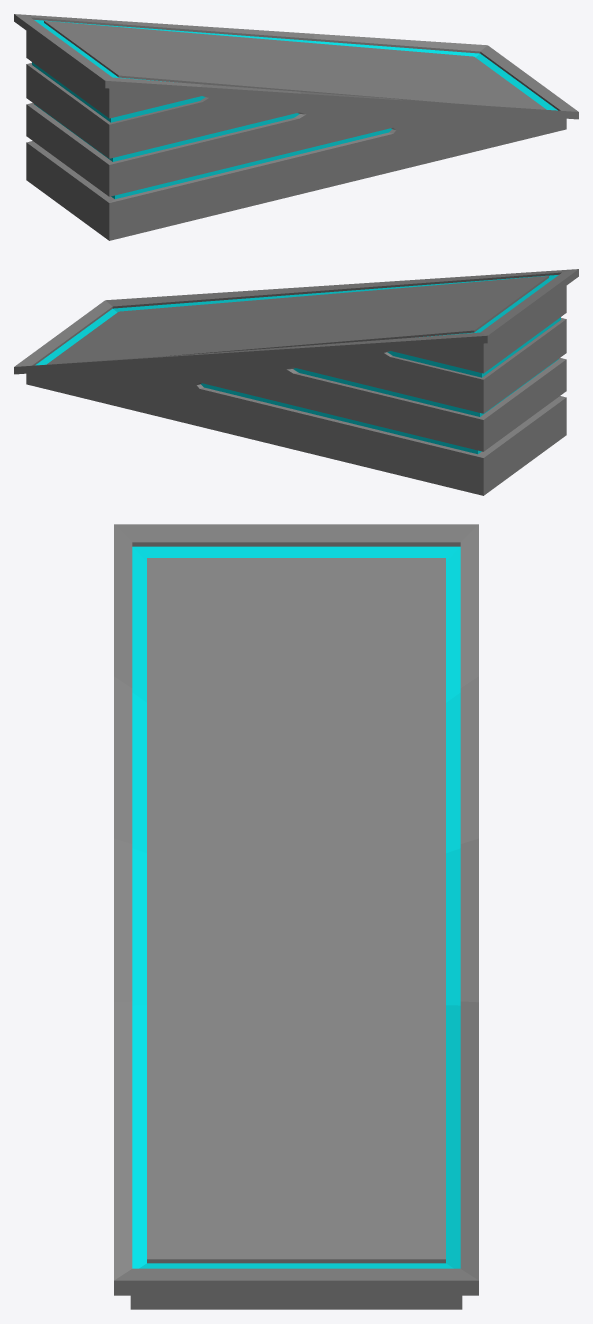
File: Ramp_Triple_Origin_Up.fbx
The picture shows the model from 3 angles, top to bottom: view 1: azimuth 30°, elevation 25°; view 2: azimuth 150°, elevation 25°; view 3: azimuth 270°, elevation 25°; orthographic projection. The views are drawn at different scales.
Parts seen in each view (by area): view 1: Ramp_Triple_Origin_Up; view 2: Ramp_Triple_Origin_Up; view 3: Ramp_Triple_Origin_Up.
Part boxes in pixels (x1,y1,x2,y2): Ramp_Triple_Origin_Up: (14, 14, 578, 240); Ramp_Triple_Origin_Up: (14, 269, 578, 495); Ramp_Triple_Origin_Up: (114, 524, 478, 1309).
Size of the model in its own units: 600 by 200 by 200.
